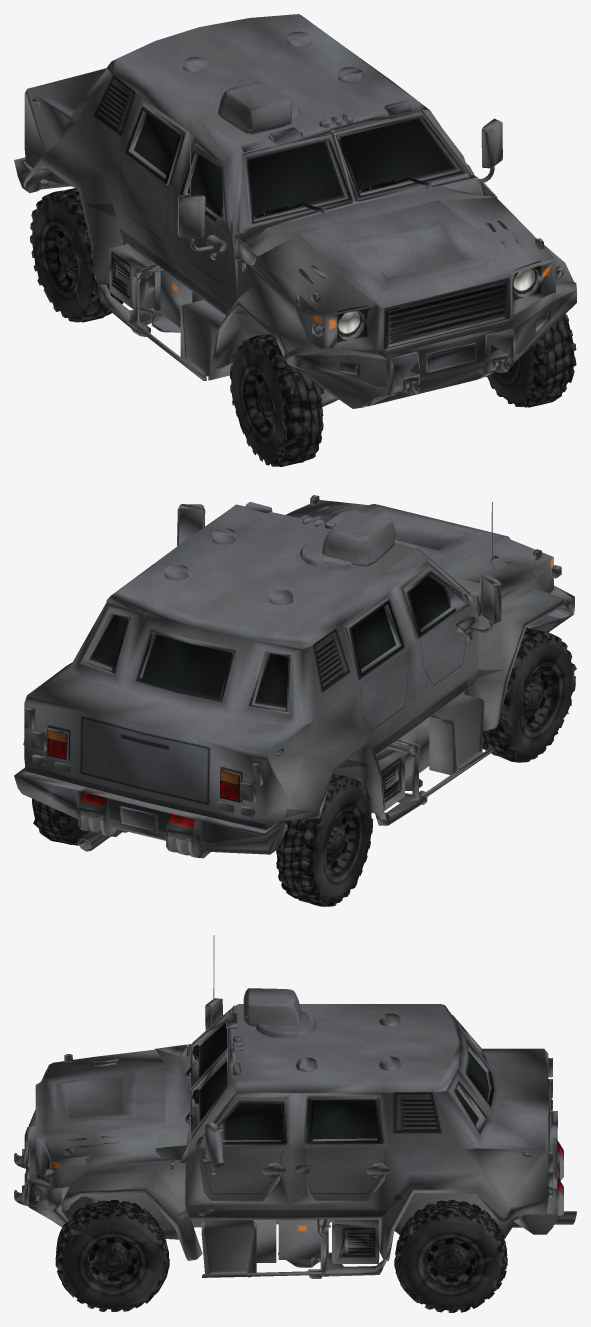
File: armored_vehicle.glb
The picture shows the model from 3 angles, top to bottom: view 1: azimuth 30°, elevation 25°; view 2: azimuth 150°, elevation 25°; view 3: azimuth 270°, elevation 25°; orthographic projection. The views are drawn at different scales.
Visible parts, largest first — view 1: Chassis, WheelFrontRight, WheelRearRight, WheelFrontLeft; view 2: Chassis, WheelRearRight, WheelFrontRight, WheelRearLeft; view 3: Chassis, WheelFrontLeft, WheelRearLeft.
Boxes of the visible parts, left/top/right/bottom form: Chassis: left=14, top=14, right=576, bottom=408; WheelFrontRight: left=230, top=334, right=323, bottom=466; WheelRearRight: left=30, top=188, right=123, bottom=322; WheelFrontLeft: left=486, top=314, right=576, bottom=407; Chassis: left=14, top=495, right=574, bottom=858; WheelRearRight: left=276, top=773, right=373, bottom=906; WheelFrontRight: left=482, top=627, right=576, bottom=762; WheelRearLeft: left=32, top=798, right=89, bottom=845; Chassis: left=14, top=935, right=576, bottom=1278; WheelFrontLeft: left=55, top=1200, right=169, bottom=1311; WheelRearLeft: left=394, top=1200, right=507, bottom=1312.
Bounding box in the file's own units: 0.5649 × 0.5063 × 0.9995.
Materials: 1 (1 with a texture image).
